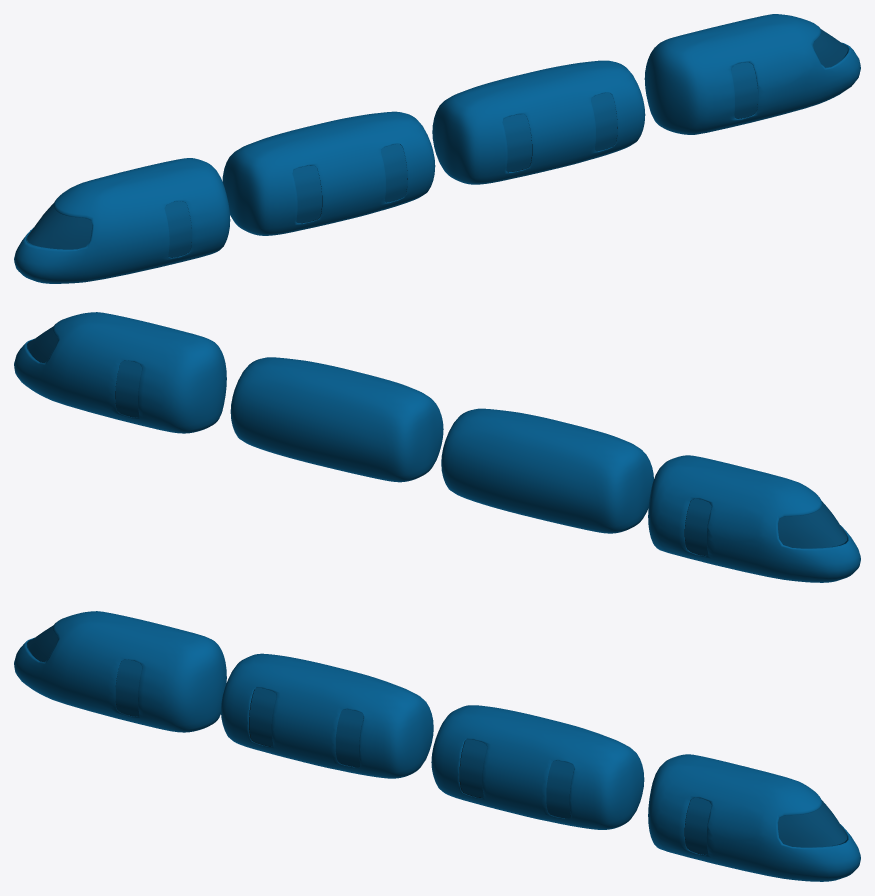
Rendered from train.glb.
3 views of the same model, one above another, from view 1: azimuth 30°, elevation 25°; view 2: azimuth 150°, elevation 25°; view 3: azimuth 330°, elevation 25° (orthographic).
Parts seen in each view (by area): view 1: cab.002, cab.001, Cab, cab, door_Left, door_Left.002, door_Right.001, door_right, door_Right, door_Right.002; view 2: Cab, cab, cab.002, cab.001, door_Left.001, door_left; view 3: cab.001, cab.002, Cab, cab, door_Right.002, door_Right, door_Left.002, door_Left, door_right, door_Right.001.
Part boxes in pixels (x1=…): cab.002: x1=14, y1=158, x2=230, y2=283; cab.001: x1=644, y1=14, x2=860, y2=134; Cab: x1=432, y1=60, x2=645, y2=184; cab: x1=222, y1=111, x2=435, y2=235; door_Left: x1=293, y1=165, x2=321, y2=223; door_Left.002: x1=503, y1=114, x2=531, y2=171; door_Right.001: x1=731, y1=62, x2=757, y2=118; door_right: x1=165, y1=201, x2=191, y2=257; door_Right: x1=591, y1=92, x2=617, y2=151; door_Right.002: x1=381, y1=144, x2=407, y2=202; Cab: x1=230, y1=357, x2=443, y2=482; cab: x1=441, y1=408, x2=653, y2=533; cab.002: x1=648, y1=455, x2=860, y2=582; cab.001: x1=14, y1=312, x2=226, y2=433; door_Left.001: x1=115, y1=360, x2=142, y2=417; door_left: x1=685, y1=498, x2=711, y2=555; cab.001: x1=648, y1=754, x2=860, y2=881; cab.002: x1=14, y1=611, x2=226, y2=732; Cab: x1=431, y1=705, x2=644, y2=829; cab: x1=221, y1=653, x2=433, y2=778; door_Right.002: x1=335, y1=709, x2=363, y2=767; door_Right: x1=546, y1=760, x2=574, y2=818; door_Left.002: x1=460, y1=739, x2=487, y2=797; door_Left: x1=249, y1=688, x2=276, y2=746; door_right: x1=115, y1=659, x2=142, y2=716; door_Right.001: x1=685, y1=797, x2=711, y2=854.
Size of the model in its own units: 26.94 by 2.51 by 2.99.
